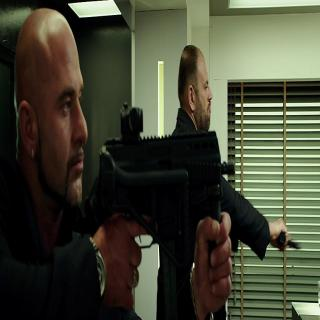gun: (72, 101, 236, 315)
